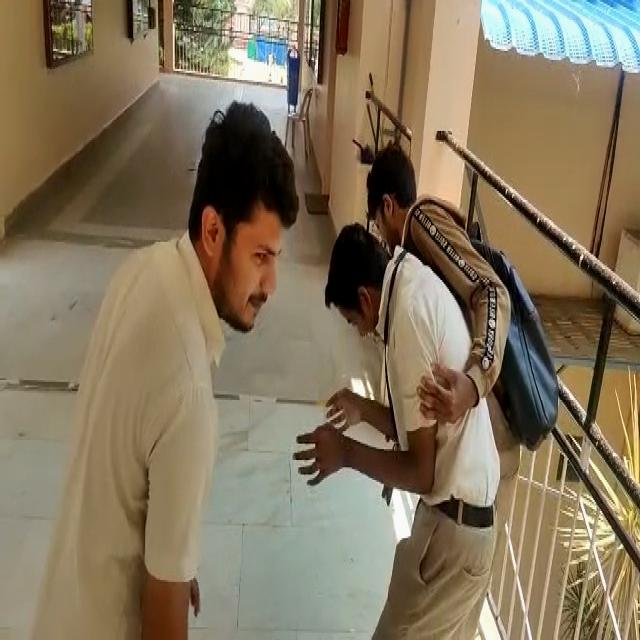fight: (286, 106, 552, 632)
